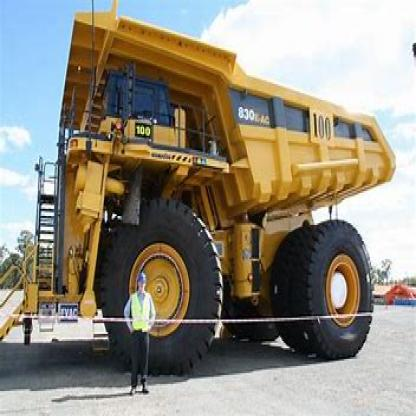dump_truck: (12, 9, 383, 373)
person: (123, 272, 164, 396)
